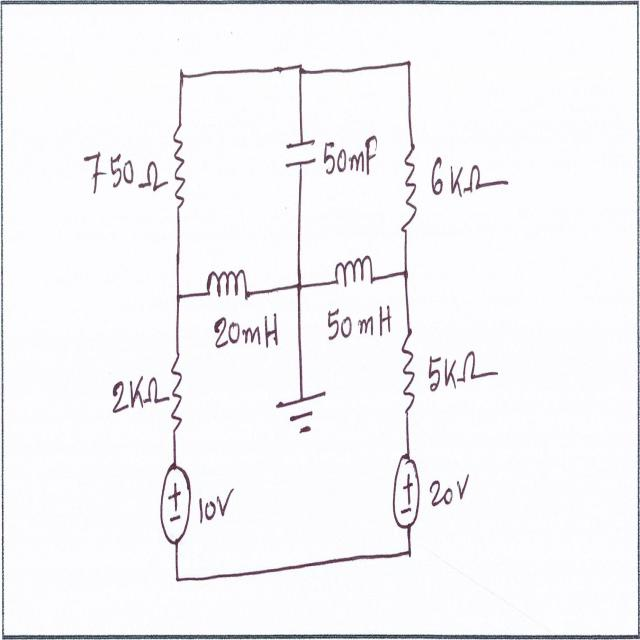capacitor: (282, 138, 317, 180)
ground: (275, 388, 329, 444)
inductor: (331, 254, 377, 301), (200, 266, 253, 306)
resistor: (397, 318, 421, 421), (397, 141, 420, 243), (168, 118, 188, 221), (167, 334, 185, 434)
voltage_source: (158, 457, 192, 554), (391, 447, 424, 537)
